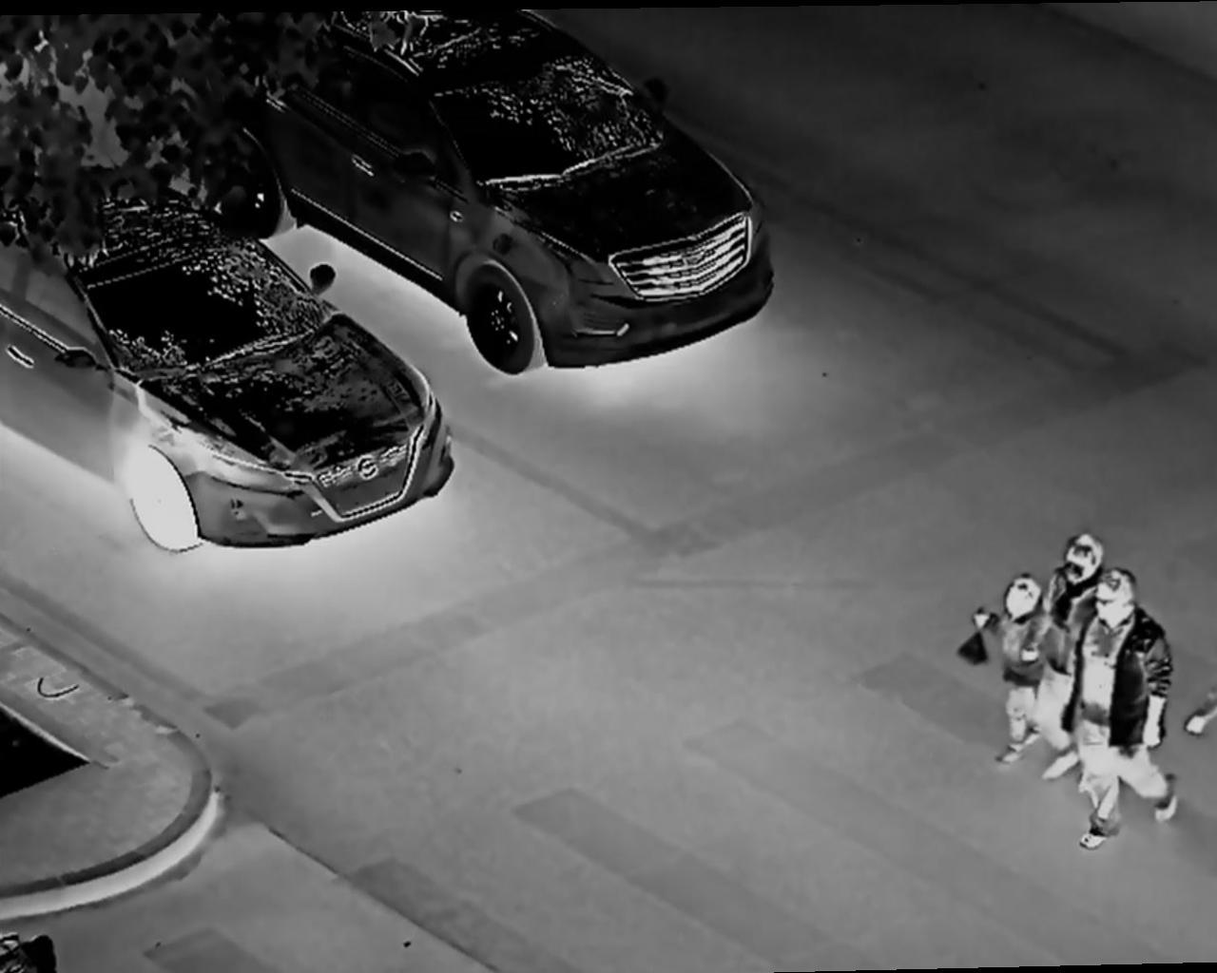person: (1081, 570, 1189, 840), (960, 574, 1037, 777), (1047, 526, 1098, 733)
